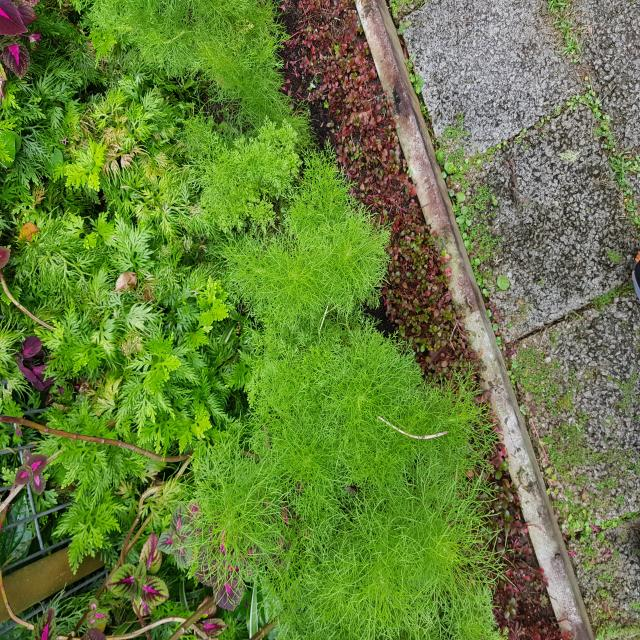Dill: (232, 213, 483, 604), (103, 2, 309, 75)
